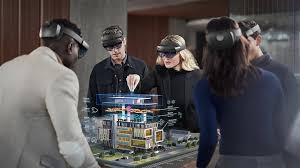hololens: (39, 22, 89, 59), (204, 28, 243, 47), (100, 33, 125, 51), (154, 43, 183, 58)
